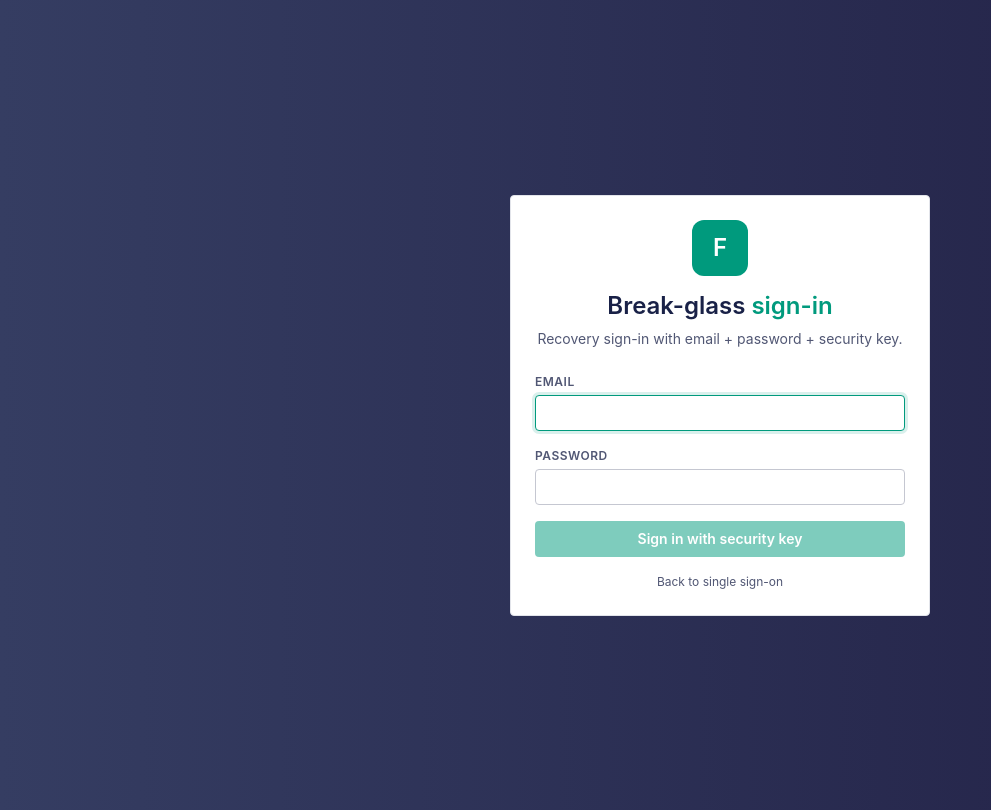
Test: BreakGlassLogin error mapping › renders the directed copy for invalid_credentials
Type "ops@example.com" into the field labelled "Email".
click(720, 412); type("ops@example.com")  # box [535,394,905,430]
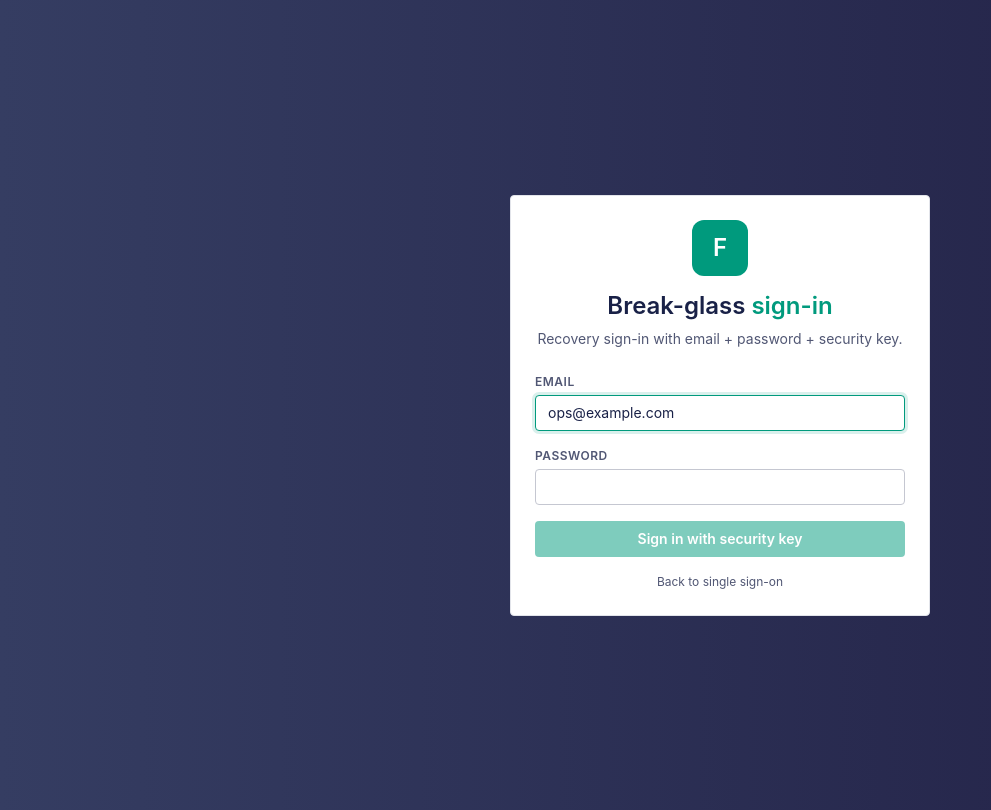
Type "pw" into the password field labelled "Password".
click(720, 486); type("pw")  # box [535,468,905,504]
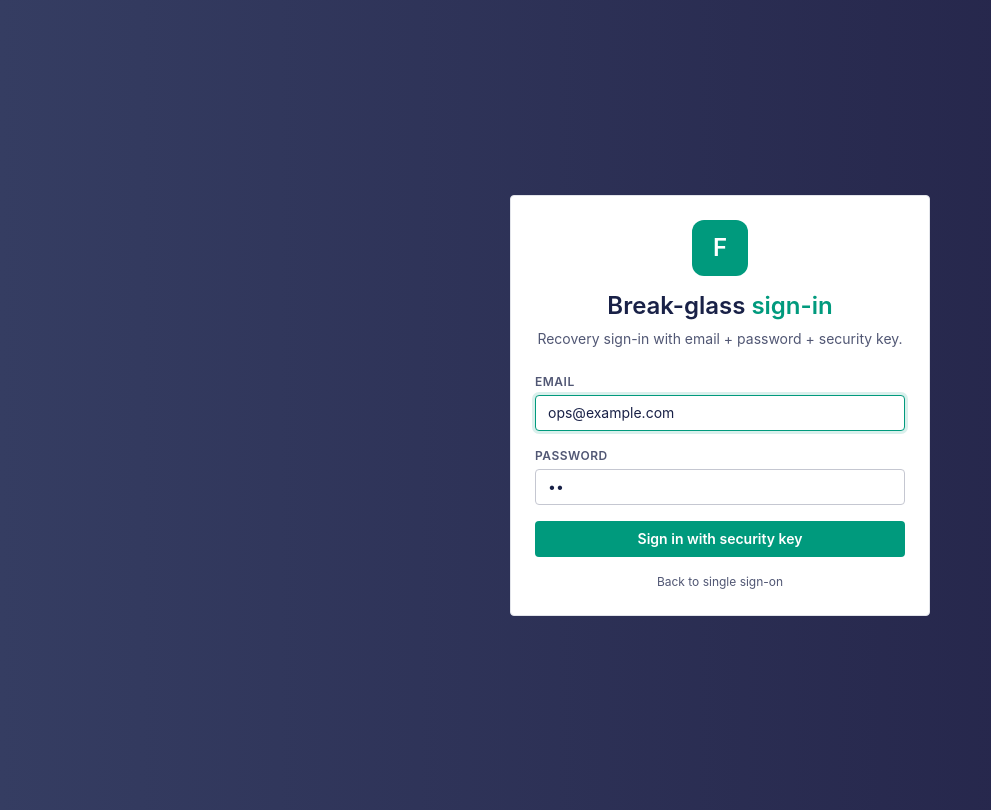
Click the button "Sign in with security key".
click(720, 538)  # box [535,520,905,556]
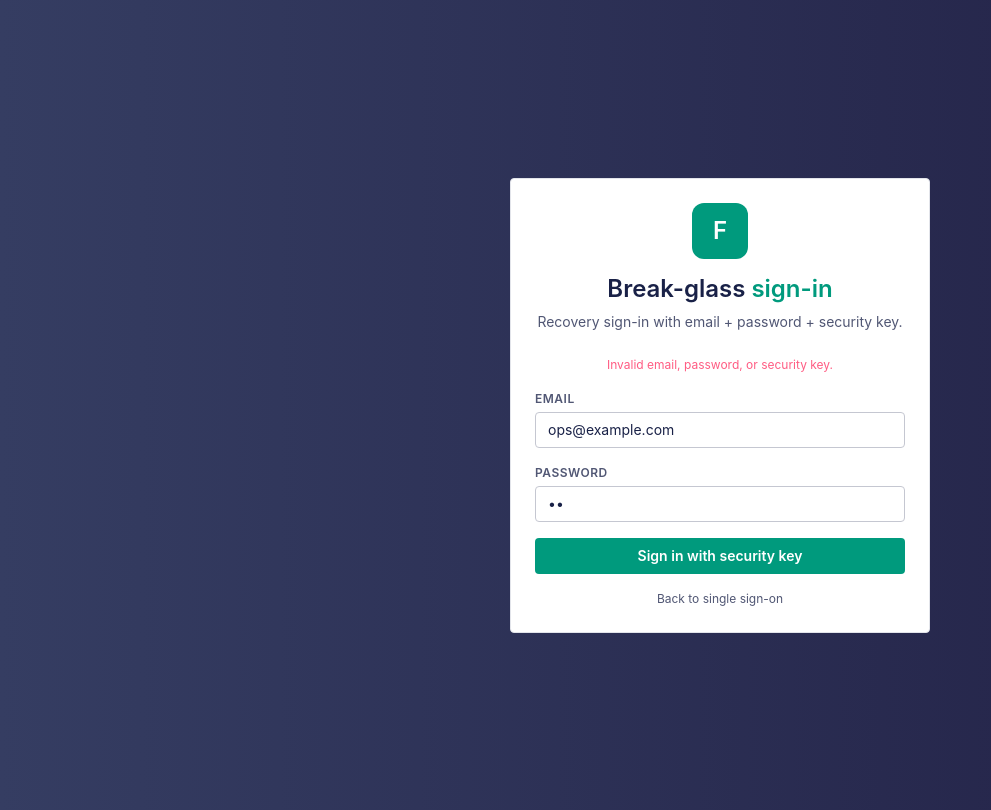
Check: the message shows "Invalid email, password, or security key", box [607,356,833,372]
